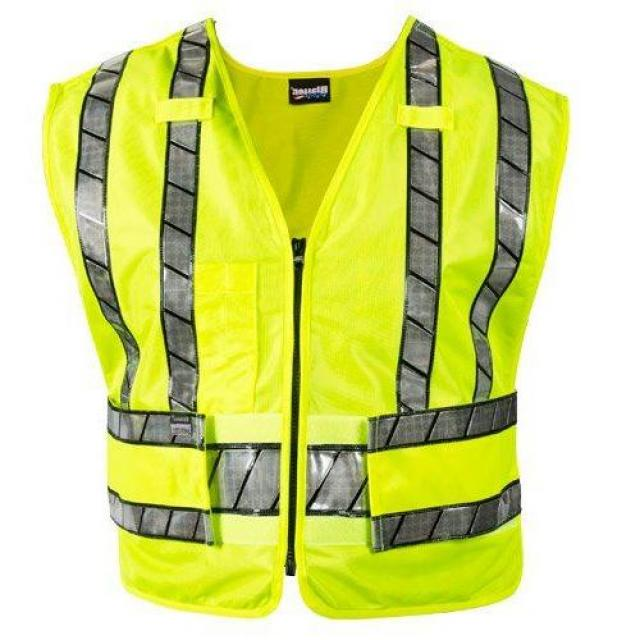Reflective-Jacket: (20, 4, 589, 640)
